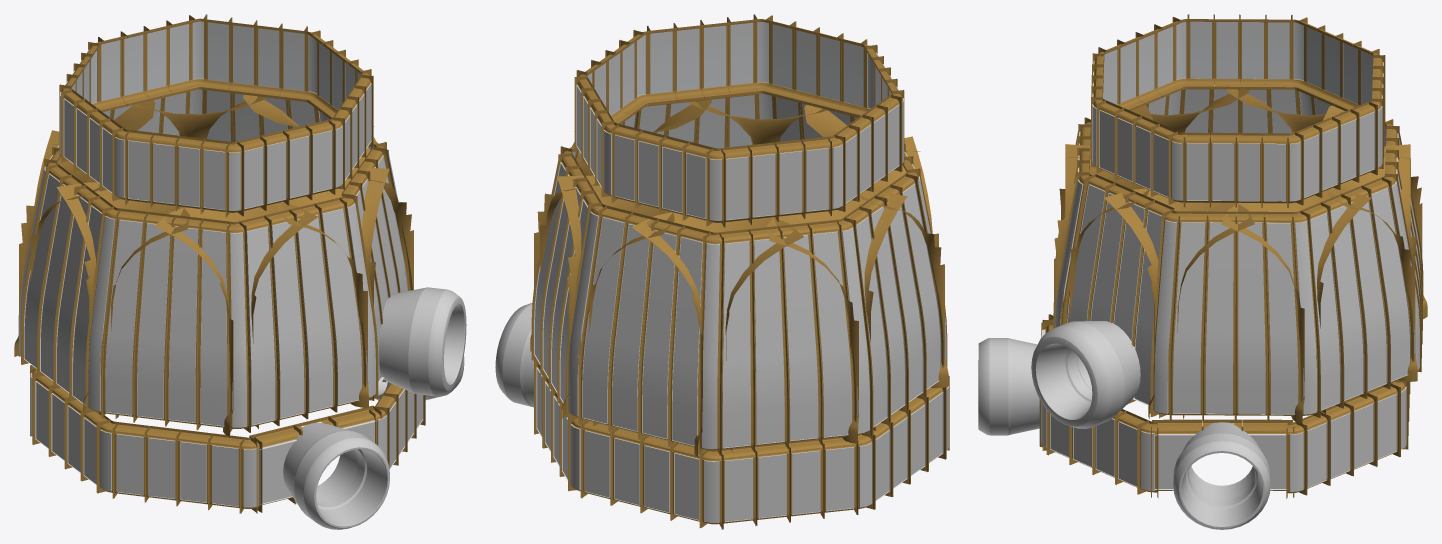
Rendered from TowerInterior7.fbx.
The picture shows the model from 3 angles, left to right: view 1: azimuth 30°, elevation 25°; view 2: azimuth 150°, elevation 25°; view 3: azimuth 270°, elevation 25°; orthographic projection. The views are drawn at different scales.
Visible parts, largest first — view 1: Cube.042; view 2: Cube.042; view 3: Cube.042.
Boxes of the visible parts, bbox=[...] form: Cube.042: bbox=[14, 14, 466, 529]; Cube.042: bbox=[495, 14, 949, 529]; Cube.042: bbox=[978, 14, 1427, 529].
Size of the model in its own units: 10747 by 9546 by 11012.
